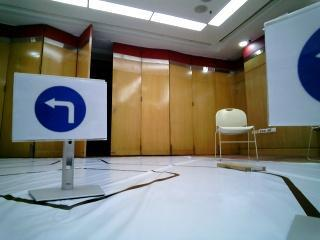left: (24, 75, 117, 140)
